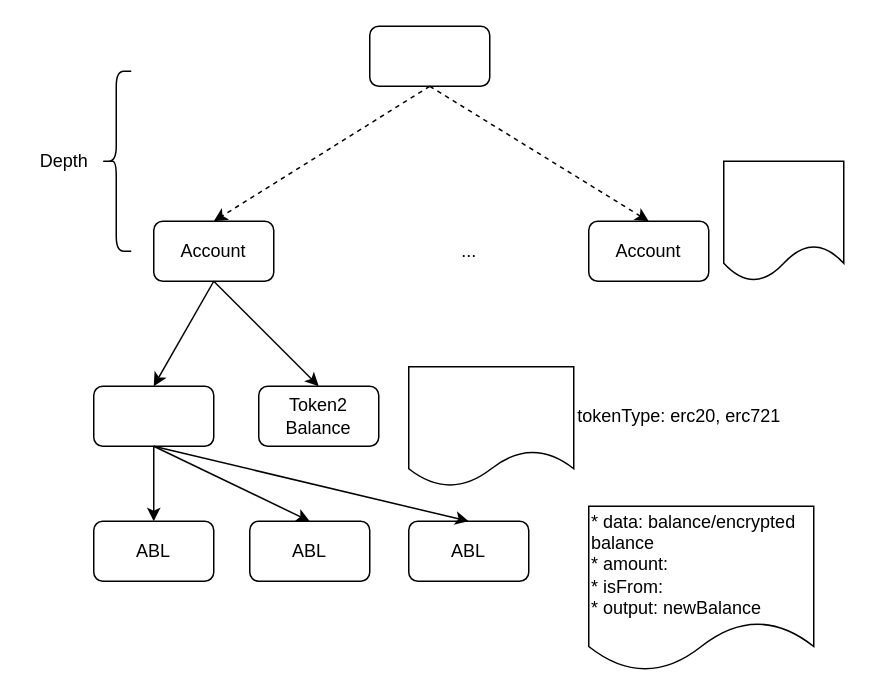
This 870x698 diagram has some shape labels left out. Each missing label, with the centre of its shape:
"* index * tokenType * intermediateRoots" belongs at point 490,426.
"* publicKey * nonce * paths2root" belongs at point 783,220.
"Account Root" belongs at point 429,55.
"Token1 Balance" belongs at point 153,415.
